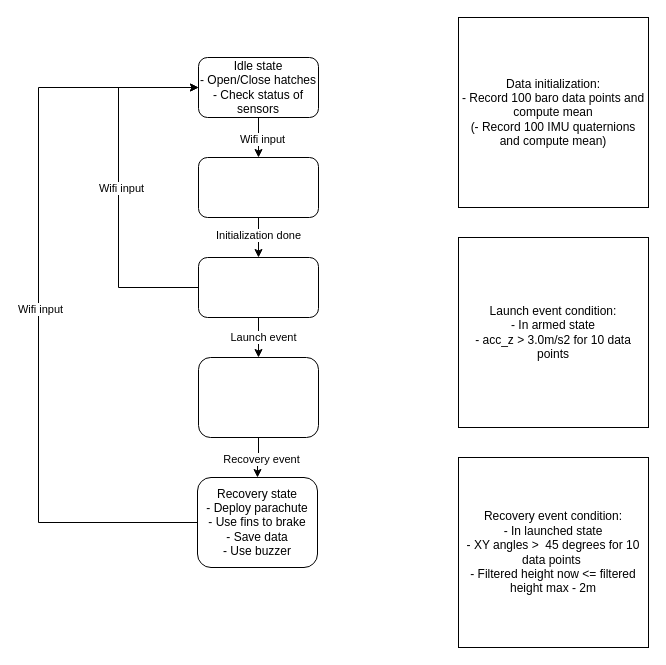
Image size: 666x665. Some labels were removed from this diagram. Here are the shapes that lost their labels. From the top down, the centre of each, then its label:
At [258,187]: "Initialization state - Initialize baro data - Initialize IMU angles".
At [258,287]: "Armed state - Detect launch event - Use buzzer".
At [258,397]: "Launched state - Actuate fins - Record data - Detect recovery condition".
